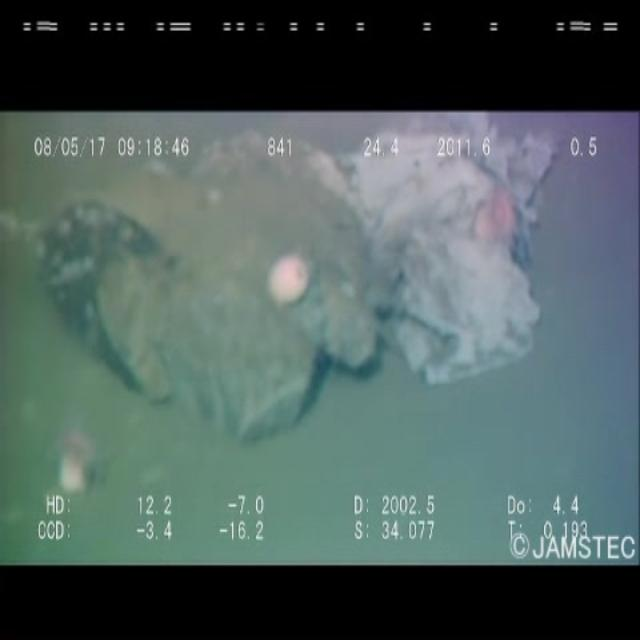Accessories: (27, 149, 377, 433), (343, 105, 555, 394)
